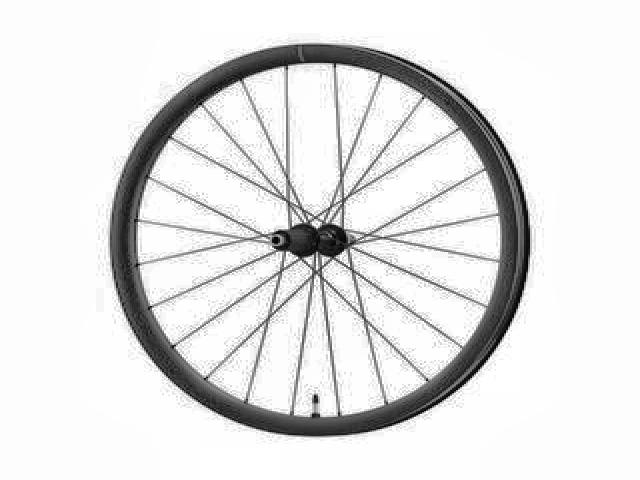wheel: (101, 37, 538, 440)
